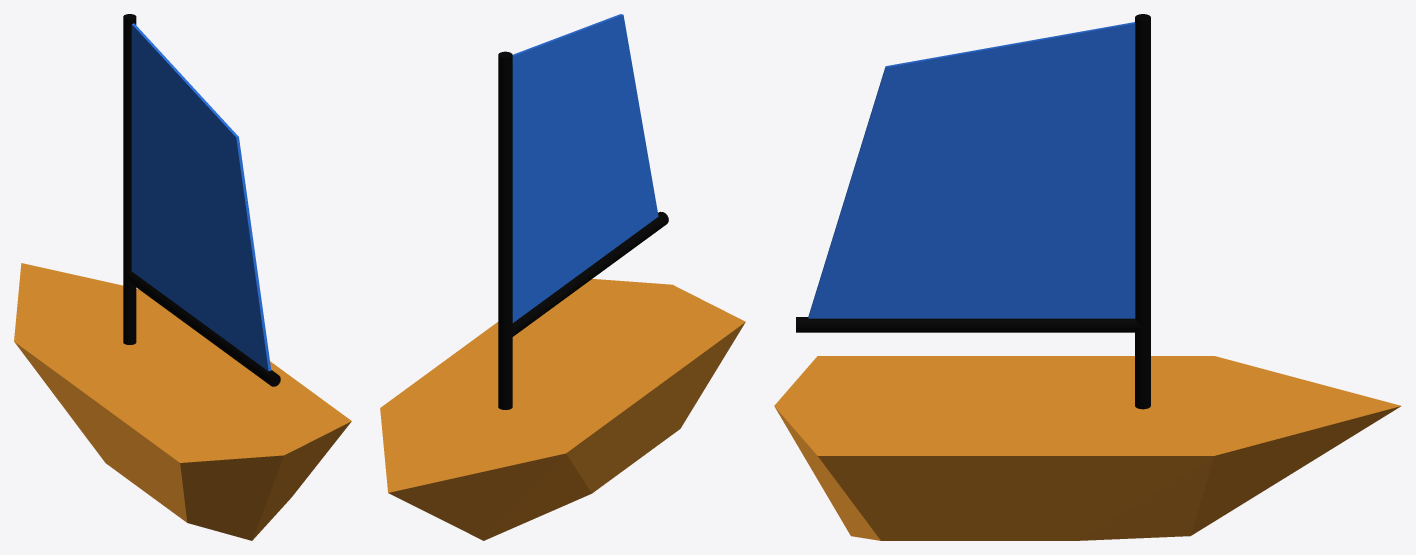
Rendered from boat.glb.
3 renders of one model, left to right at view 1: azimuth 30°, elevation 25°; view 2: azimuth 150°, elevation 25°; view 3: azimuth 270°, elevation 25°, orthographic. The views are drawn at different scales.
Visible parts, largest first — view 1: Coque, Voile, Mat, Bome; view 2: Coque, Voile, Mat, Bome; view 3: Coque, Voile, Mat, Bome.
Part boxes in pixels (x1,y1,x2,y2): Coque: (14, 263, 351, 540); Voile: (131, 23, 271, 371); Mat: (123, 14, 136, 344); Bome: (123, 271, 280, 386); Coque: (380, 279, 745, 540); Voile: (512, 14, 658, 322); Mat: (498, 51, 512, 409); Bome: (511, 211, 668, 336); Coque: (774, 356, 1400, 540); Voile: (808, 22, 1135, 318); Mat: (1135, 14, 1150, 409); Bome: (796, 317, 1144, 332).
Bounding box in the file's own units: 17.64 × 42.62 × 46.73.
